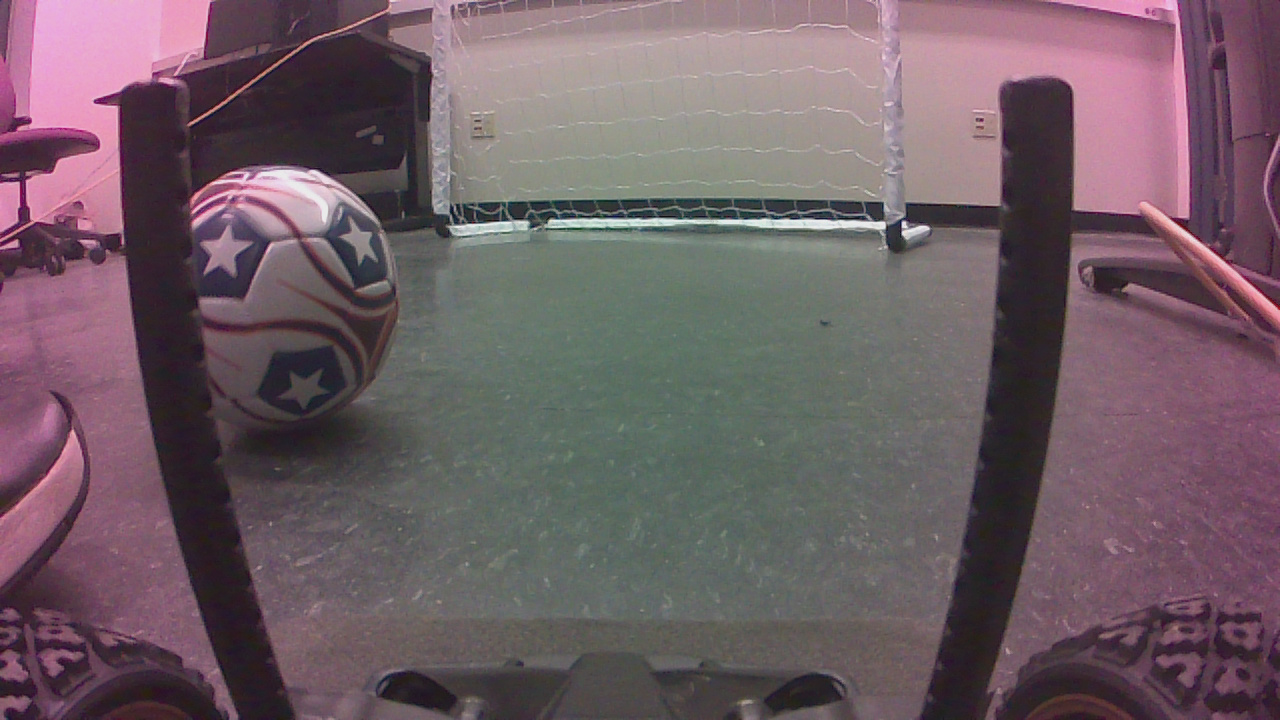ball: (195, 170, 405, 437)
goal: (436, 2, 940, 254)
